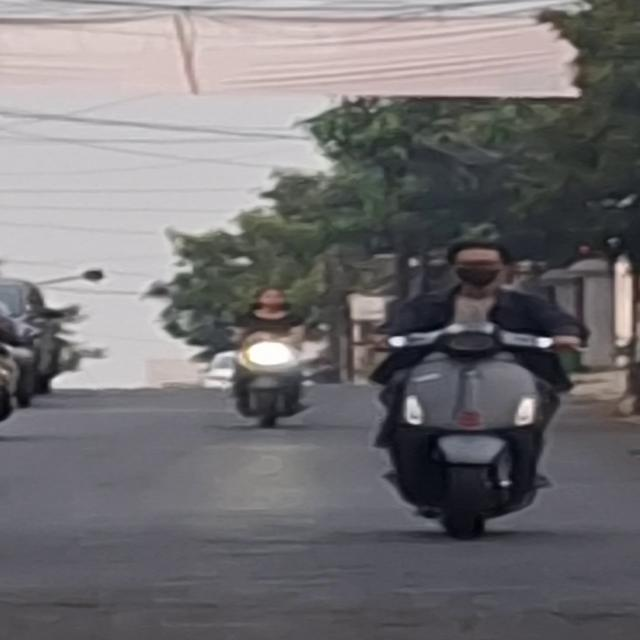WithoutHelmet: (371, 244, 593, 540), (228, 286, 318, 432)
